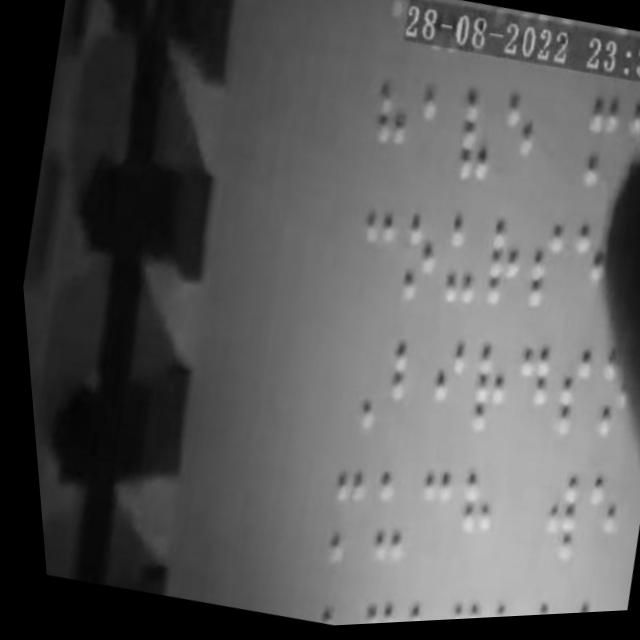braiile: (515, 469, 584, 579), (533, 349, 600, 459), (301, 463, 368, 573), (450, 344, 519, 449), (407, 339, 471, 451), (559, 474, 623, 586), (363, 336, 428, 446), (337, 208, 404, 314), (484, 93, 549, 202), (441, 93, 507, 200), (491, 343, 556, 451), (433, 465, 498, 573), (425, 213, 490, 318), (401, 85, 466, 189), (509, 221, 572, 328), (345, 469, 409, 573), (383, 211, 447, 313), (467, 217, 529, 321), (358, 82, 417, 183), (393, 465, 453, 564)
